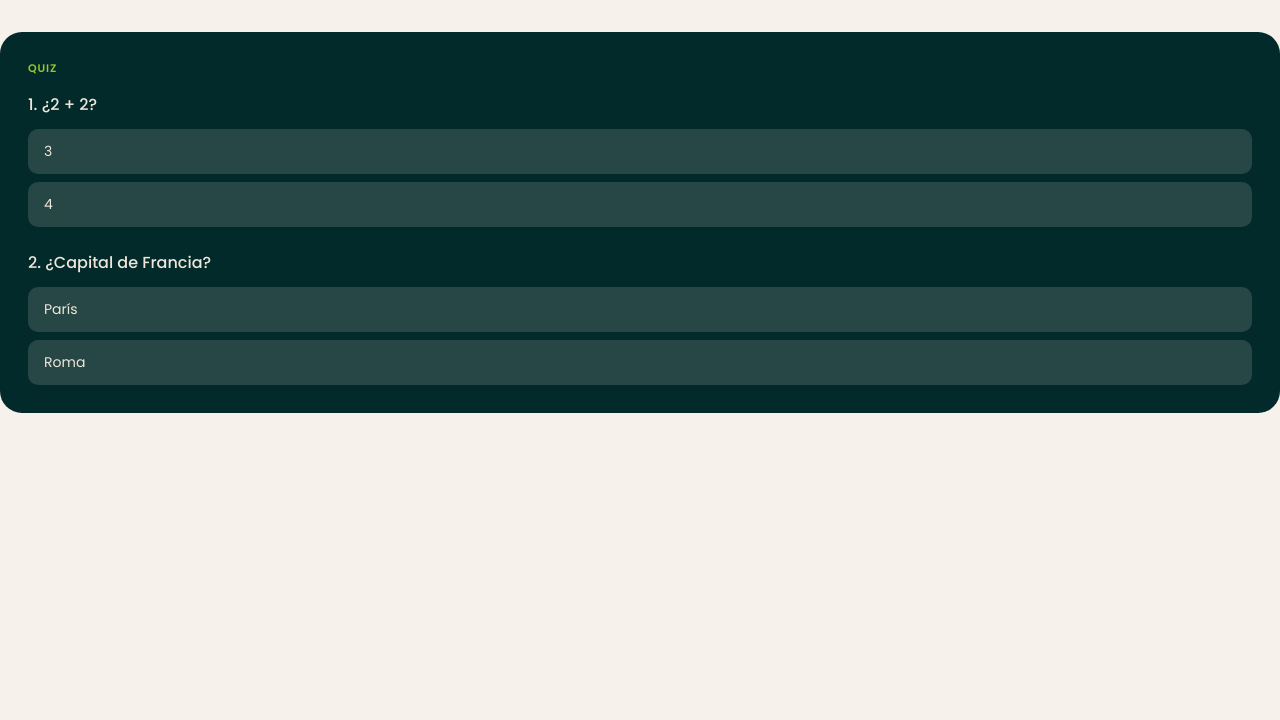
Scenario: Quiz › shows feedback per answer, locks the question and records the best score
Click the button "3" at (48, 150), box 28,128 -> 1252,174
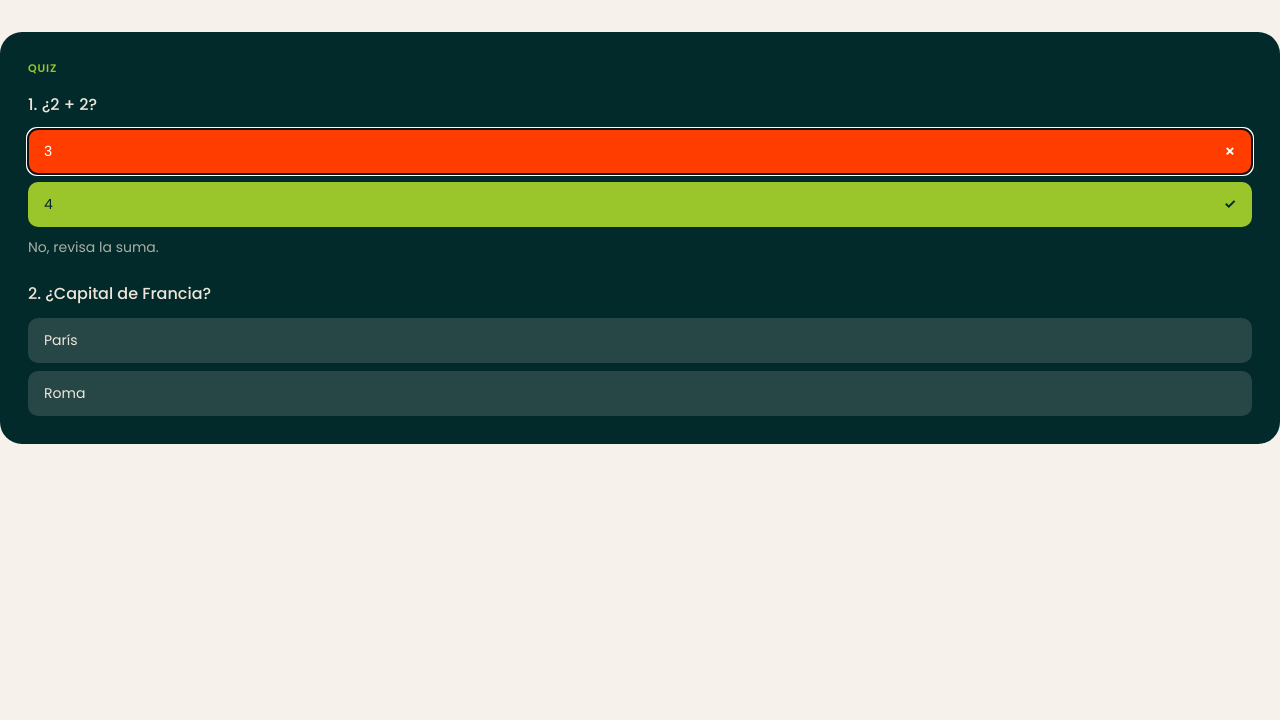
expect the message reads "No, revisa la suma.": met, box 28,236 -> 159,256
expect the button "4 ✓" is enabled: met
Click the button "4 ✓" at (125, 202), box 28,182 -> 1252,226
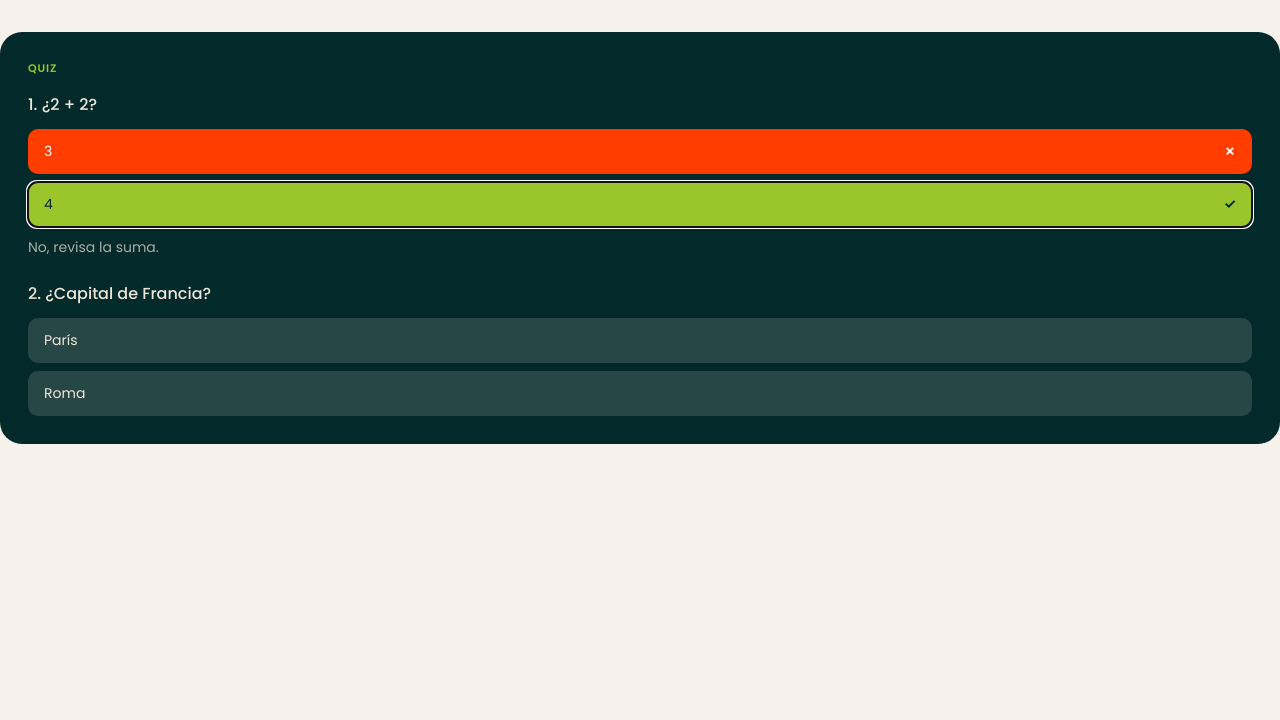
expect the text "Resultado" is not shown: met
expect the message reads "No, revisa la suma.": met, box 28,236 -> 159,256
Click the button "París" at (61, 340), box 28,318 -> 1252,362
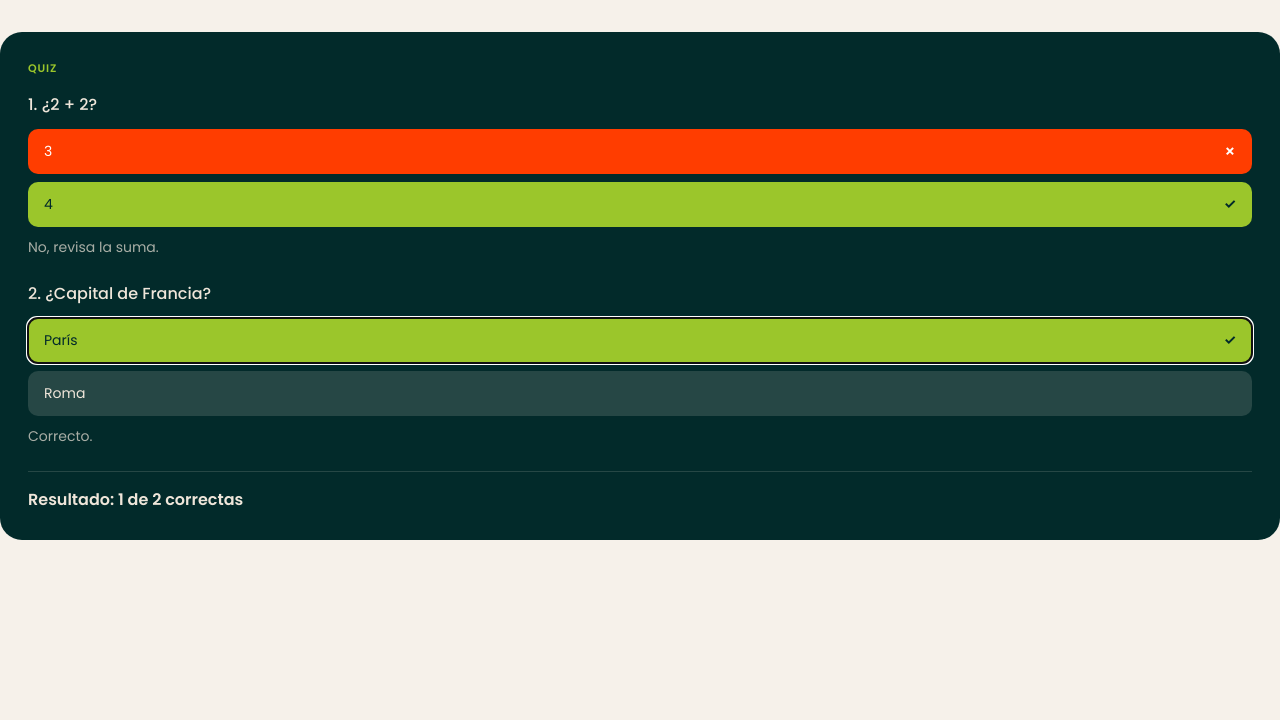
expect the text "Resultado: 1 de 2 correctas" is shown: met, box 28,470 -> 1252,512
